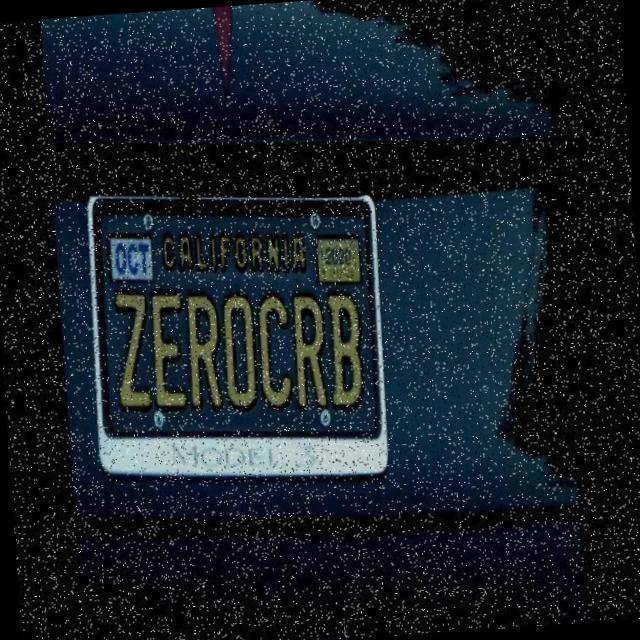LicensePlate: (86, 176, 395, 497)
